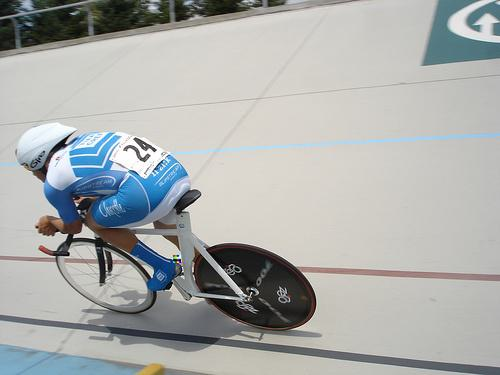car: (39, 189, 316, 330)
person: (16, 123, 192, 291)
